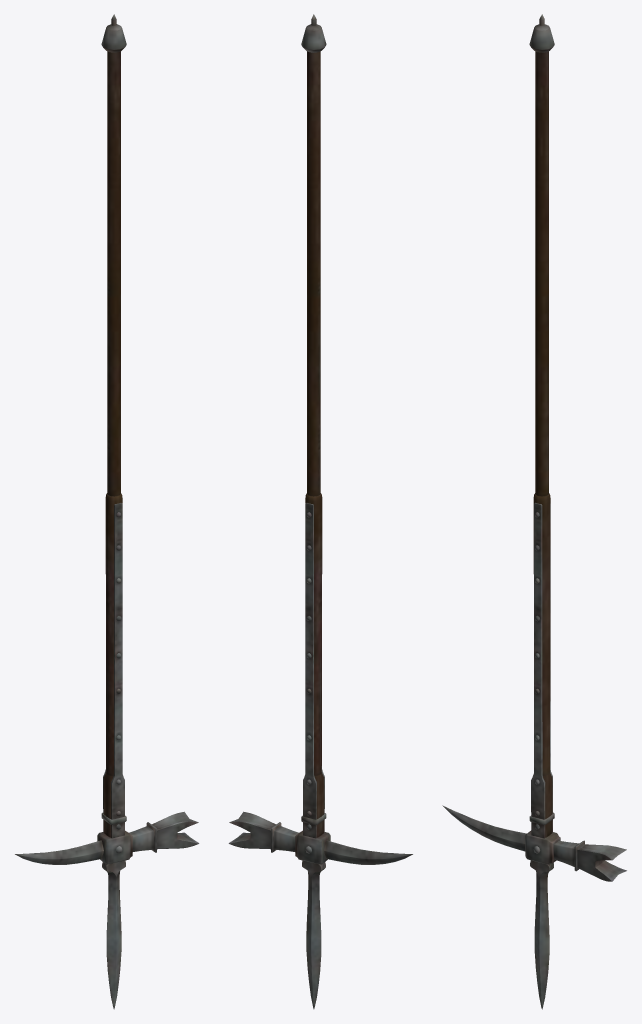
The model's file is weapon-wp_a_1002.glb.
3 views of the same model, side by side, from view 1: azimuth 30°, elevation 25°; view 2: azimuth 150°, elevation 25°; view 3: azimuth 330°, elevation 25° (orthographic).
Visible parts, largest first — view 1: wp_a_1002_mesh; view 2: wp_a_1002_mesh; view 3: wp_a_1002_mesh.
Part boxes in pixels (bbox=[...]): wp_a_1002_mesh: bbox=[15, 14, 199, 1009]; wp_a_1002_mesh: bbox=[228, 14, 412, 1009]; wp_a_1002_mesh: bbox=[442, 14, 626, 1009].
Bounding box in the file's own units: 0.4272 × 2.29 × 0.0618.
Materials: 2 (2 with a texture image).
